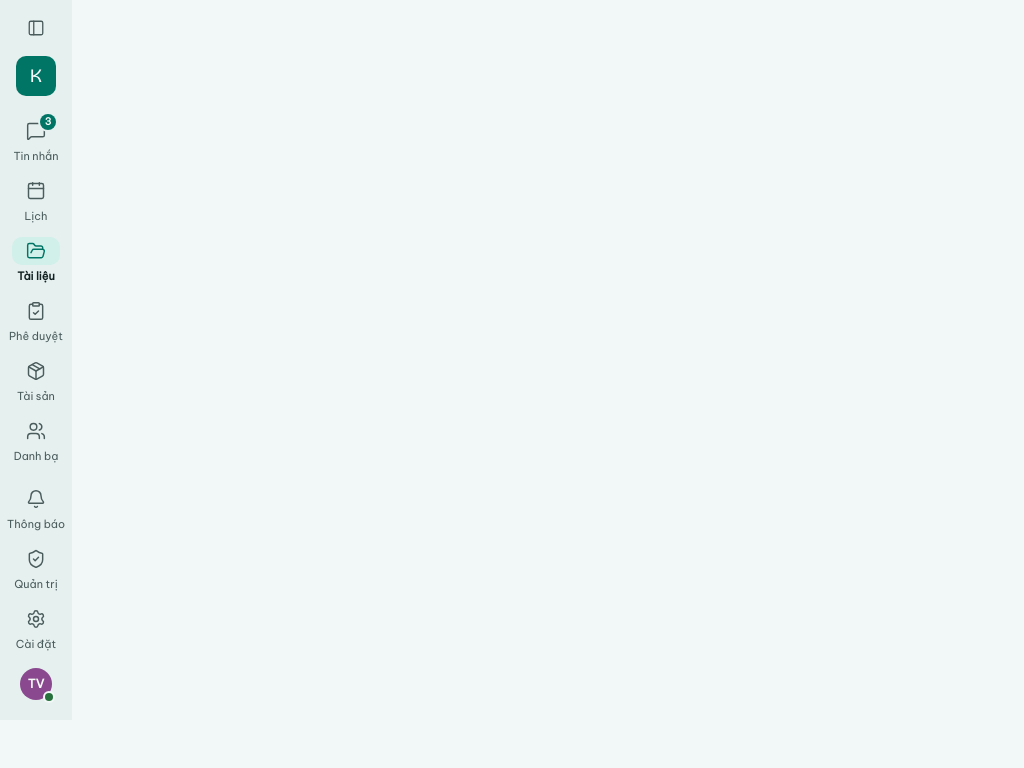
it: AppSidebar, collapsed rail › opens the workspace menu from the letter tile, with the full name and the type line in the header
The width and height of the screenshot is (1024, 768).
Click the button named "Đổi workspace, đang ở Khối Vận hành" at coordinates (36, 76), box [12,52,60,100]
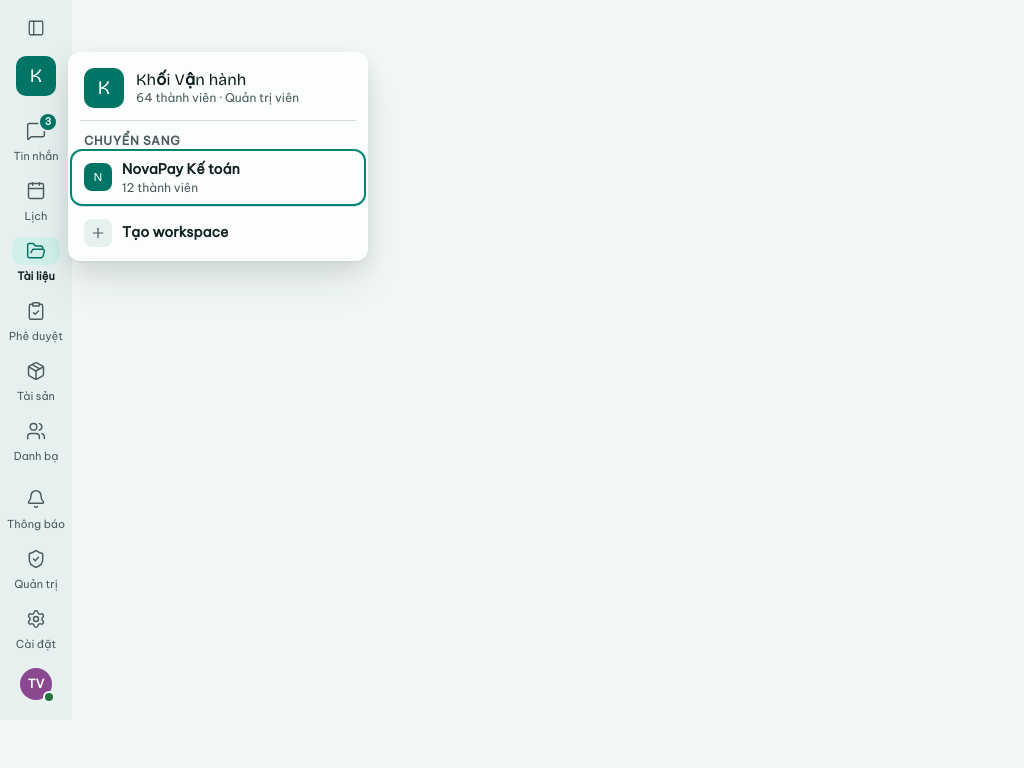
Expected: the heading "Khối Vận hành" is shown, [136,70,246,89]
Expected: the text "64 thành viên · Quản trị viên" is shown, [136,90,299,105]
